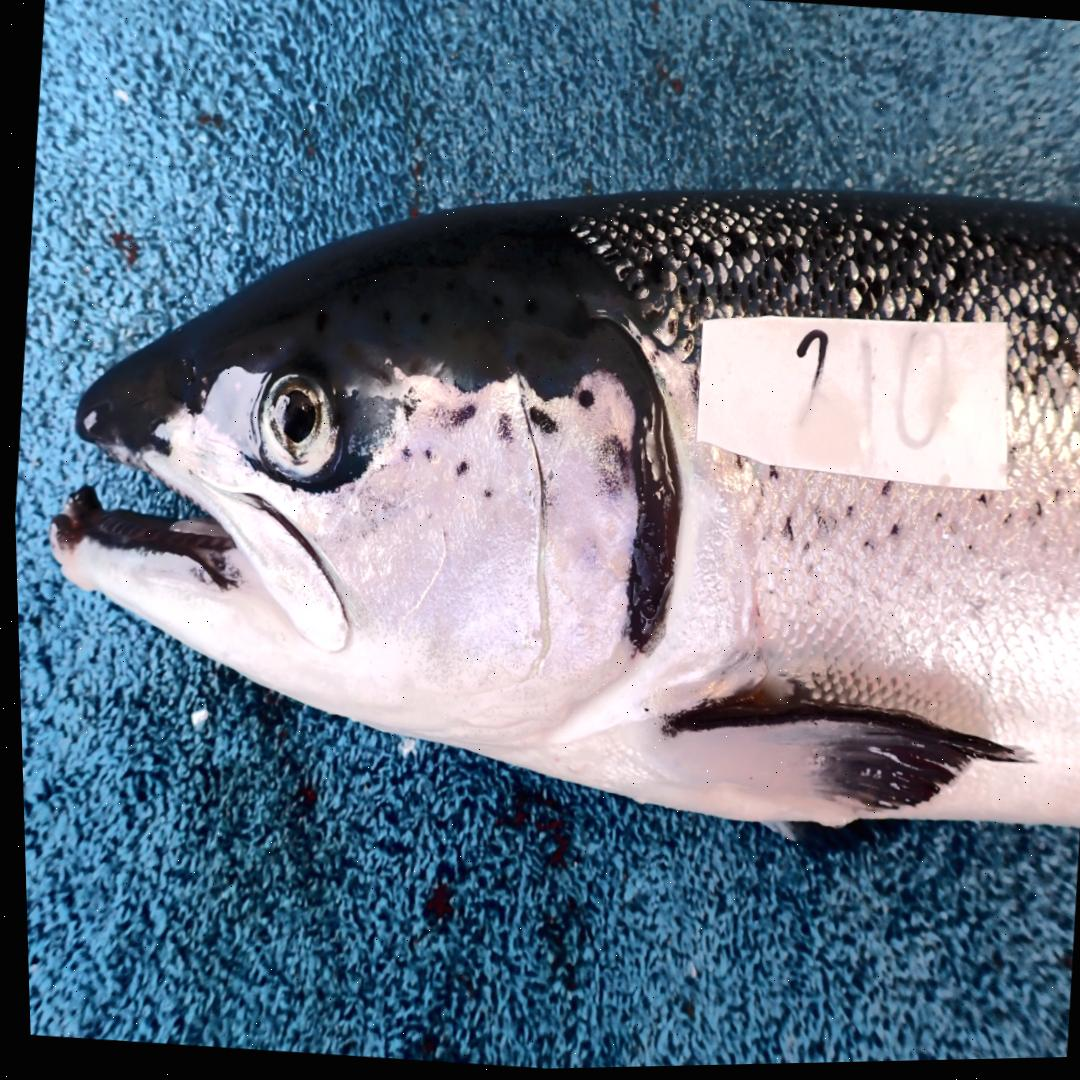spot: (592, 440, 626, 502), (527, 407, 555, 437), (446, 403, 475, 429), (400, 392, 416, 427), (495, 417, 511, 448), (576, 393, 591, 411), (453, 463, 465, 482), (422, 450, 431, 464), (400, 449, 408, 464), (482, 488, 491, 501)
